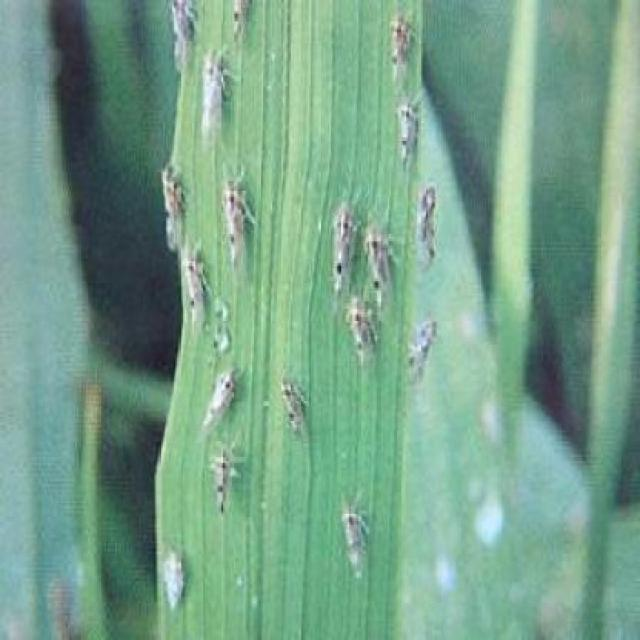brown-planthopper: (363, 224, 397, 304), (220, 183, 248, 271), (199, 48, 226, 137), (416, 182, 442, 270), (203, 377, 245, 431), (156, 165, 182, 249), (343, 502, 369, 583), (180, 245, 206, 326), (328, 202, 350, 292), (346, 302, 377, 364), (277, 377, 308, 434), (411, 317, 440, 375), (210, 443, 232, 519), (162, 548, 186, 612), (385, 16, 409, 78), (395, 99, 417, 163)
